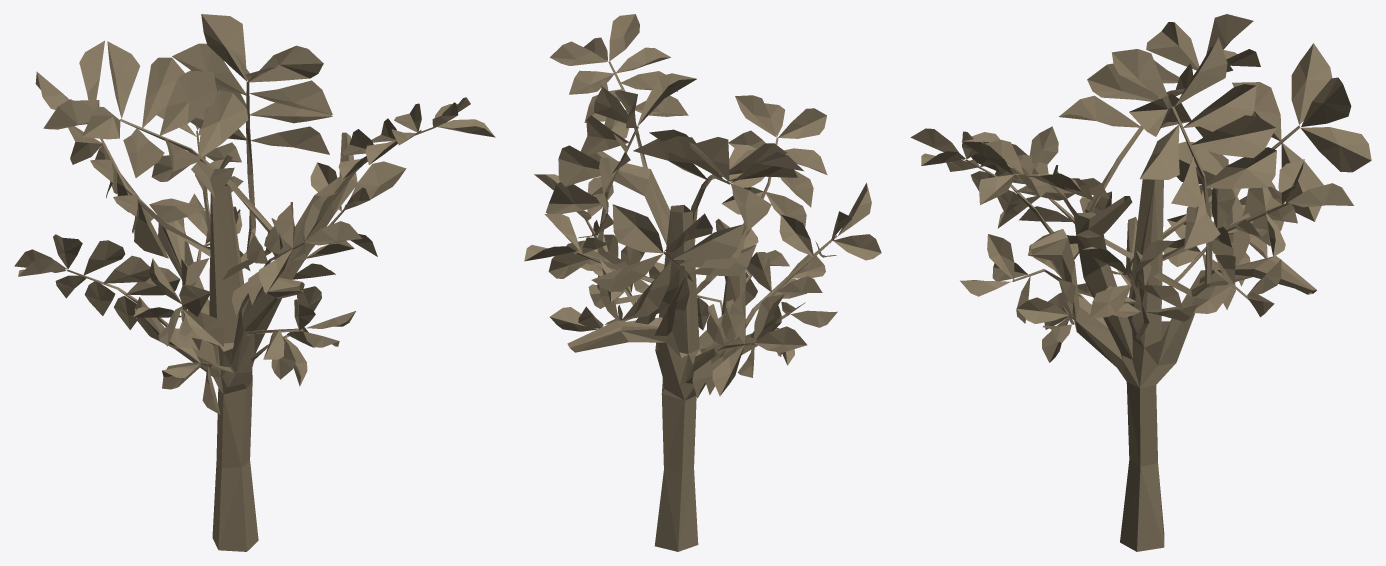
File: Peach_6_2.fbx
3 renders of one model, left to right at view 1: azimuth 30°, elevation 25°; view 2: azimuth 150°, elevation 25°; view 3: azimuth 270°, elevation 25°, orthographic. The views are drawn at different scales.
Parts seen in each view (by area): view 1: Peach_6_2; view 2: Peach_6_2; view 3: Peach_6_2.
Boxes of the visible parts, x1,y1,x2,y2 form: Peach_6_2: (14, 14, 495, 551); Peach_6_2: (524, 14, 881, 551); Peach_6_2: (910, 14, 1371, 551).
Size of the model in its own units: 402 by 530 by 437.
